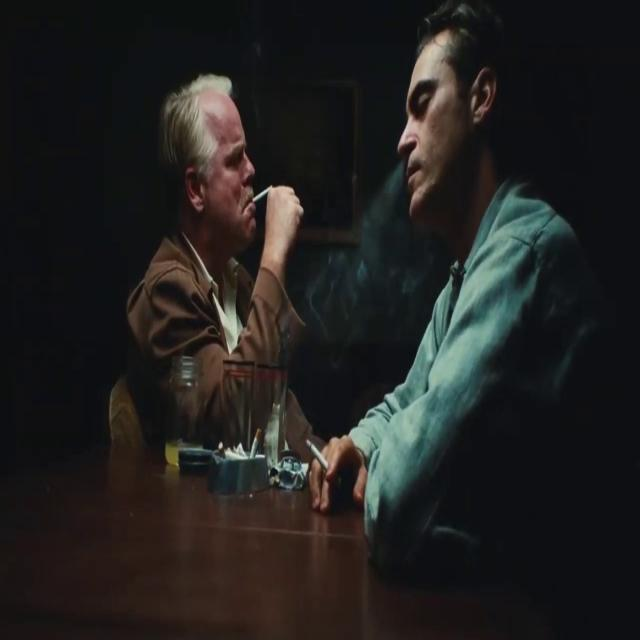Smooking: (302, 441, 333, 472), (250, 184, 277, 206)
